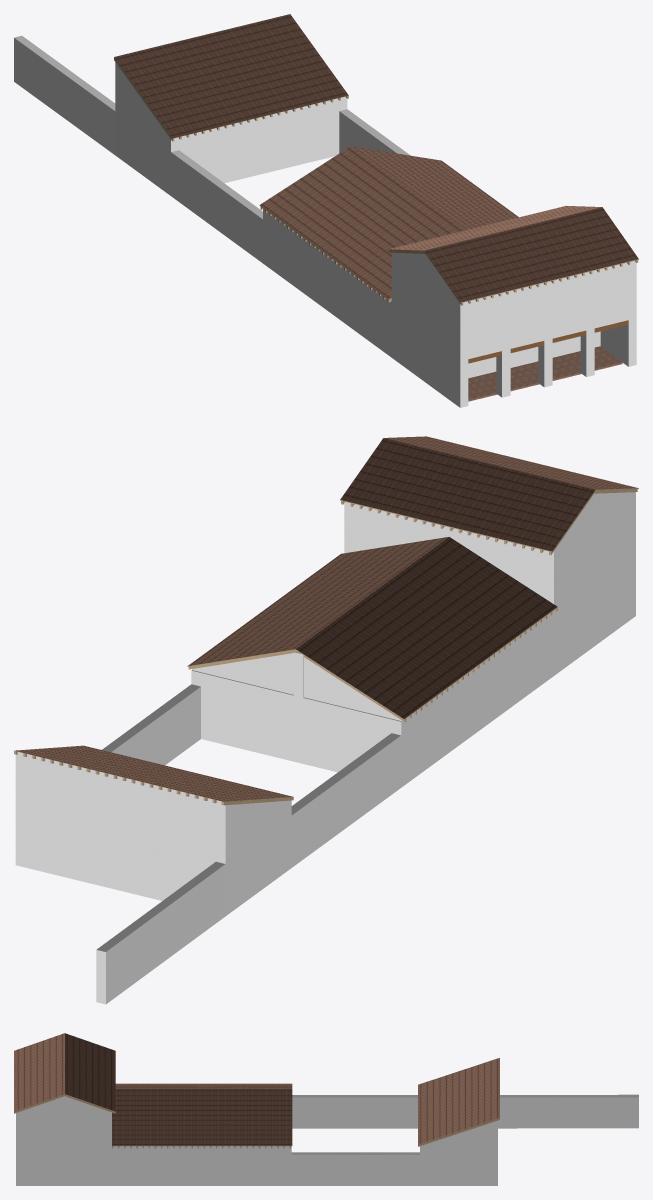
The picture shows the model from 3 angles, top to bottom: view 1: azimuth 30°, elevation 25°; view 2: azimuth 150°, elevation 25°; view 3: azimuth 270°, elevation 25°; orthographic projection. The views are drawn at different scales.
Parts seen in each view (by area): view 1: Node346, Node222, Node156, Node224, Node159, Node176, Node345, Node180, Node174, Node225, Node185, Node172 (+5 smaller); view 2: Node346, Node156, Node160, Node170, Node176, Node231, Node345, Node174, Node223, Node225, Node222, Node185 (+4 smaller); view 3: Node346, Node175, Node156, Node222, Node345, Node173, Node174, Node226, Node186, Node171, Node232, Node180 (+5 smaller).
Part boxes in pixels (x1=…): Node346: x1=259, y1=146, x2=518, y2=299; Node222: x1=114, y1=14, x2=348, y2=138; Node156: x1=387, y1=205, x2=638, y2=303; Node224: x1=454, y1=261, x2=636, y2=352; Node159: x1=166, y1=100, x2=339, y2=195; Node176: x1=263, y1=212, x2=391, y2=357; Node345: x1=14, y1=35, x2=115, y2=154; Node180: x1=454, y1=309, x2=636, y2=407; Node174: x1=171, y1=150, x2=263, y2=263; Node225: x1=396, y1=253, x2=454, y2=347; Node185: x1=396, y1=306, x2=454, y2=402; Node172: x1=120, y1=103, x2=166, y2=192; Node346: x1=187, y1=537, x2=557, y2=719; Node156: x1=340, y1=436, x2=638, y2=552; Node160: x1=15, y1=799, x2=230, y2=915; Node170: x1=191, y1=670, x2=406, y2=786; Node176: x1=402, y1=610, x2=553, y2=783; Node231: x1=15, y1=752, x2=215, y2=847; Node345: x1=96, y1=861, x2=225, y2=1004; Node174: x1=291, y1=733, x2=401, y2=867; Node223: x1=344, y1=502, x2=559, y2=606; Node225: x1=559, y1=492, x2=628, y2=605; Node222: x1=14, y1=745, x2=293, y2=801; Node185: x1=559, y1=555, x2=628, y2=671; Node346: x1=112, y1=1083, x2=292, y2=1146; Node175: x1=112, y1=1147, x2=290, y2=1185; Node156: x1=14, y1=1033, x2=115, y2=1111; Node222: x1=418, y1=1058, x2=499, y2=1144; Node345: x1=498, y1=1094, x2=638, y2=1128; Node173: x1=290, y1=1152, x2=419, y2=1185; Node174: x1=292, y1=1095, x2=417, y2=1128; Node226: x1=24, y1=1096, x2=105, y2=1146; Node186: x1=24, y1=1147, x2=105, y2=1185; Node171: x1=420, y1=1147, x2=491, y2=1185; Node232: x1=426, y1=1123, x2=491, y2=1146; Node180: x1=16, y1=1147, x2=24, y2=1185.
Bounding box in the file's own units: 10.81 × 7.59 × 45.98.
Materials: 6 (6 with a texture image).
